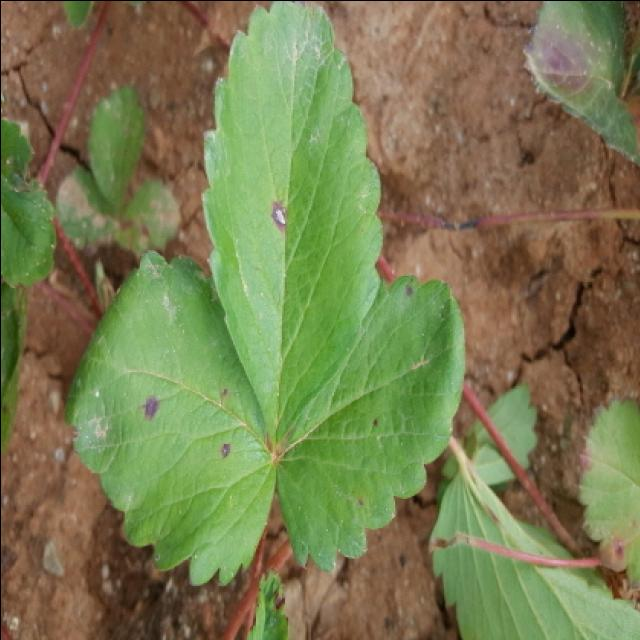Leaf Spot: (200, 2, 384, 456), (60, 248, 278, 587), (275, 272, 464, 571), (573, 394, 640, 593), (113, 174, 180, 260)
